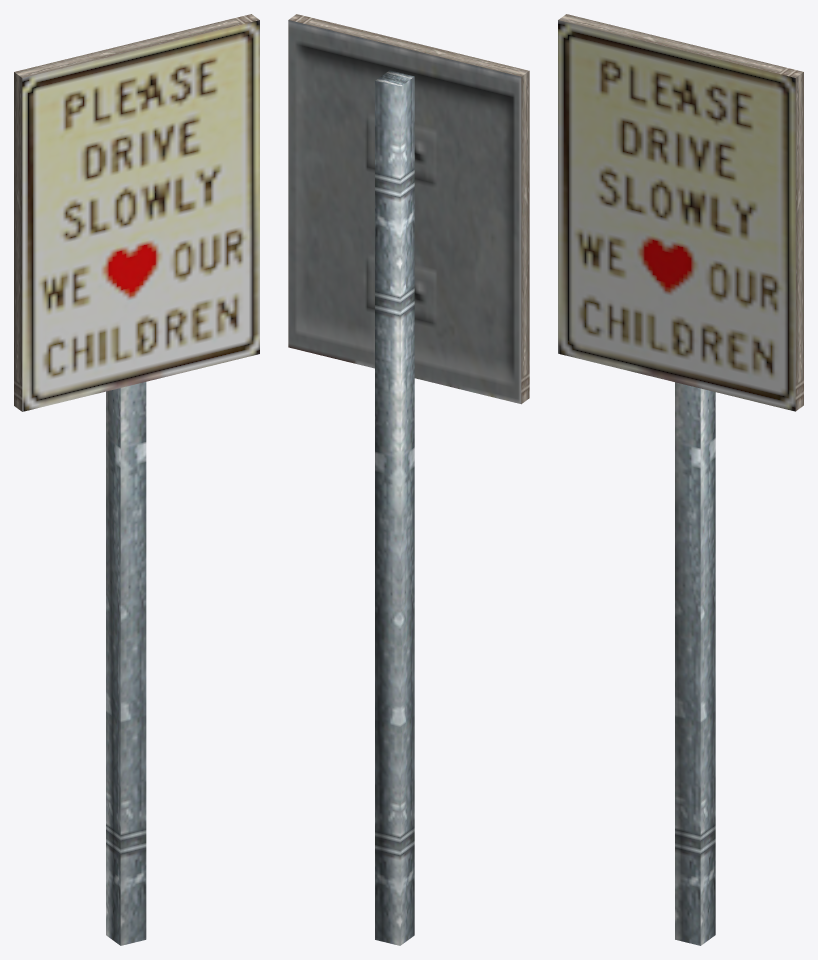
File: Model_StreetSign_08.fbx
3 renders of one model, left to right at view 1: azimuth 30°, elevation 25°; view 2: azimuth 150°, elevation 25°; view 3: azimuth 330°, elevation 25°, orthographic.
Visible parts, largest first — view 1: StreetSign_08; view 2: StreetSign_08; view 3: StreetSign_08.
Part boxes in pixels (<box>): StreetSign_08: <box>14,14,259,945</box>; StreetSign_08: <box>288,14,529,945</box>; StreetSign_08: <box>558,14,803,945</box>.
Size of the model in its own units: 59.59 by 216 by 10.5.
